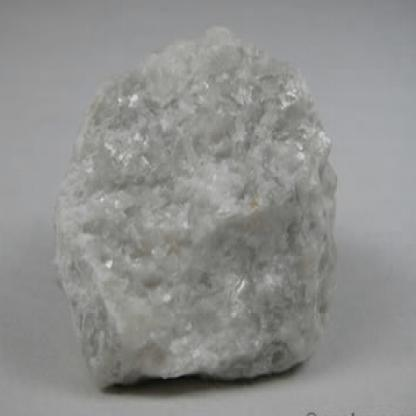Metamorphic_Marble: (46, 12, 340, 393)
